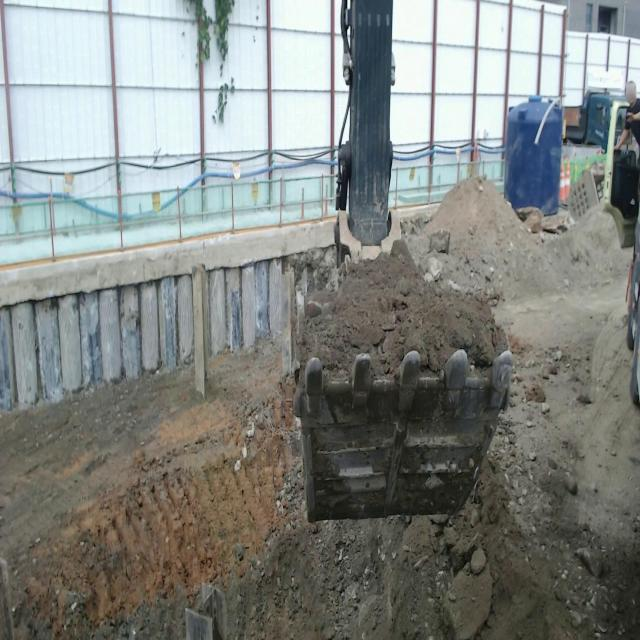cement: (0, 217, 334, 305)
red-sand: (0, 180, 640, 639)
sand: (94, 266, 97, 276)
